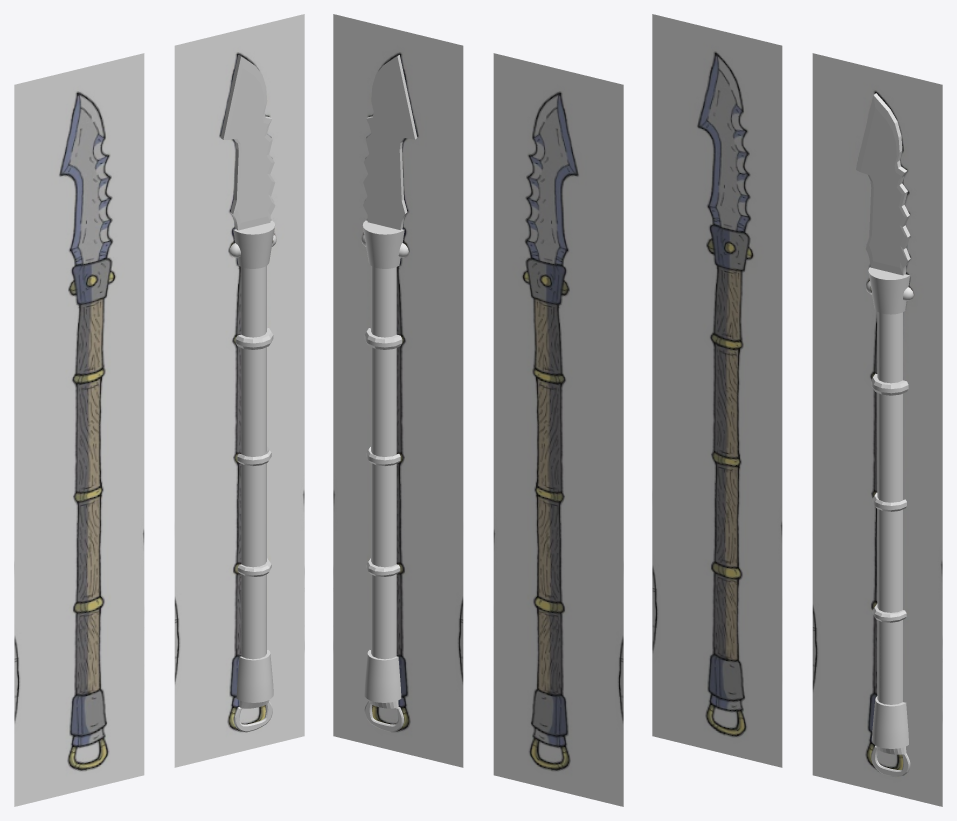
Rendered from MoralesHelena_FMA_E1_ARMA.fbx.
3 views of the same model, side by side, from view 1: azimuth 30°, elevation 25°; view 2: azimuth 150°, elevation 25°; view 3: azimuth 330°, elevation 25° (orthographic).
Visible parts, largest first — view 1: Plane002, Plane001, Weapon_Handle, Weapon_Blade, Weapon_Base, Weapon_Socket; view 2: Plane002, Plane001, Weapon_Handle, Weapon_Blade, Weapon_Base, Weapon_Socket; view 3: Plane002, Plane001, Weapon_Handle, Weapon_Blade, Weapon_Base, Weapon_Socket.
Boxes of the visible parts, box(x1,y1,x2,y2) form: Plane002: box(14, 53, 144, 806); Plane001: box(174, 14, 304, 767); Weapon_Handle: box(235, 266, 273, 659); Weapon_Blade: box(220, 55, 275, 230); Weapon_Base: box(236, 650, 273, 708); Weapon_Socket: box(233, 220, 275, 268); Plane002: box(493, 53, 623, 806); Plane001: box(333, 14, 463, 767); Weapon_Handle: box(364, 266, 402, 659); Weapon_Blade: box(363, 55, 417, 230); Weapon_Base: box(364, 650, 401, 708); Weapon_Socket: box(362, 220, 404, 268); Plane002: box(652, 14, 782, 767); Plane001: box(812, 53, 942, 806); Weapon_Handle: box(871, 311, 908, 704); Weapon_Blade: box(856, 93, 910, 275); Weapon_Base: box(872, 696, 908, 754); Weapon_Socket: box(868, 267, 910, 314).
Bounding box in the file's own units: 248 × 589 × 33.17.
Materials: 1 (1 with a texture image).
